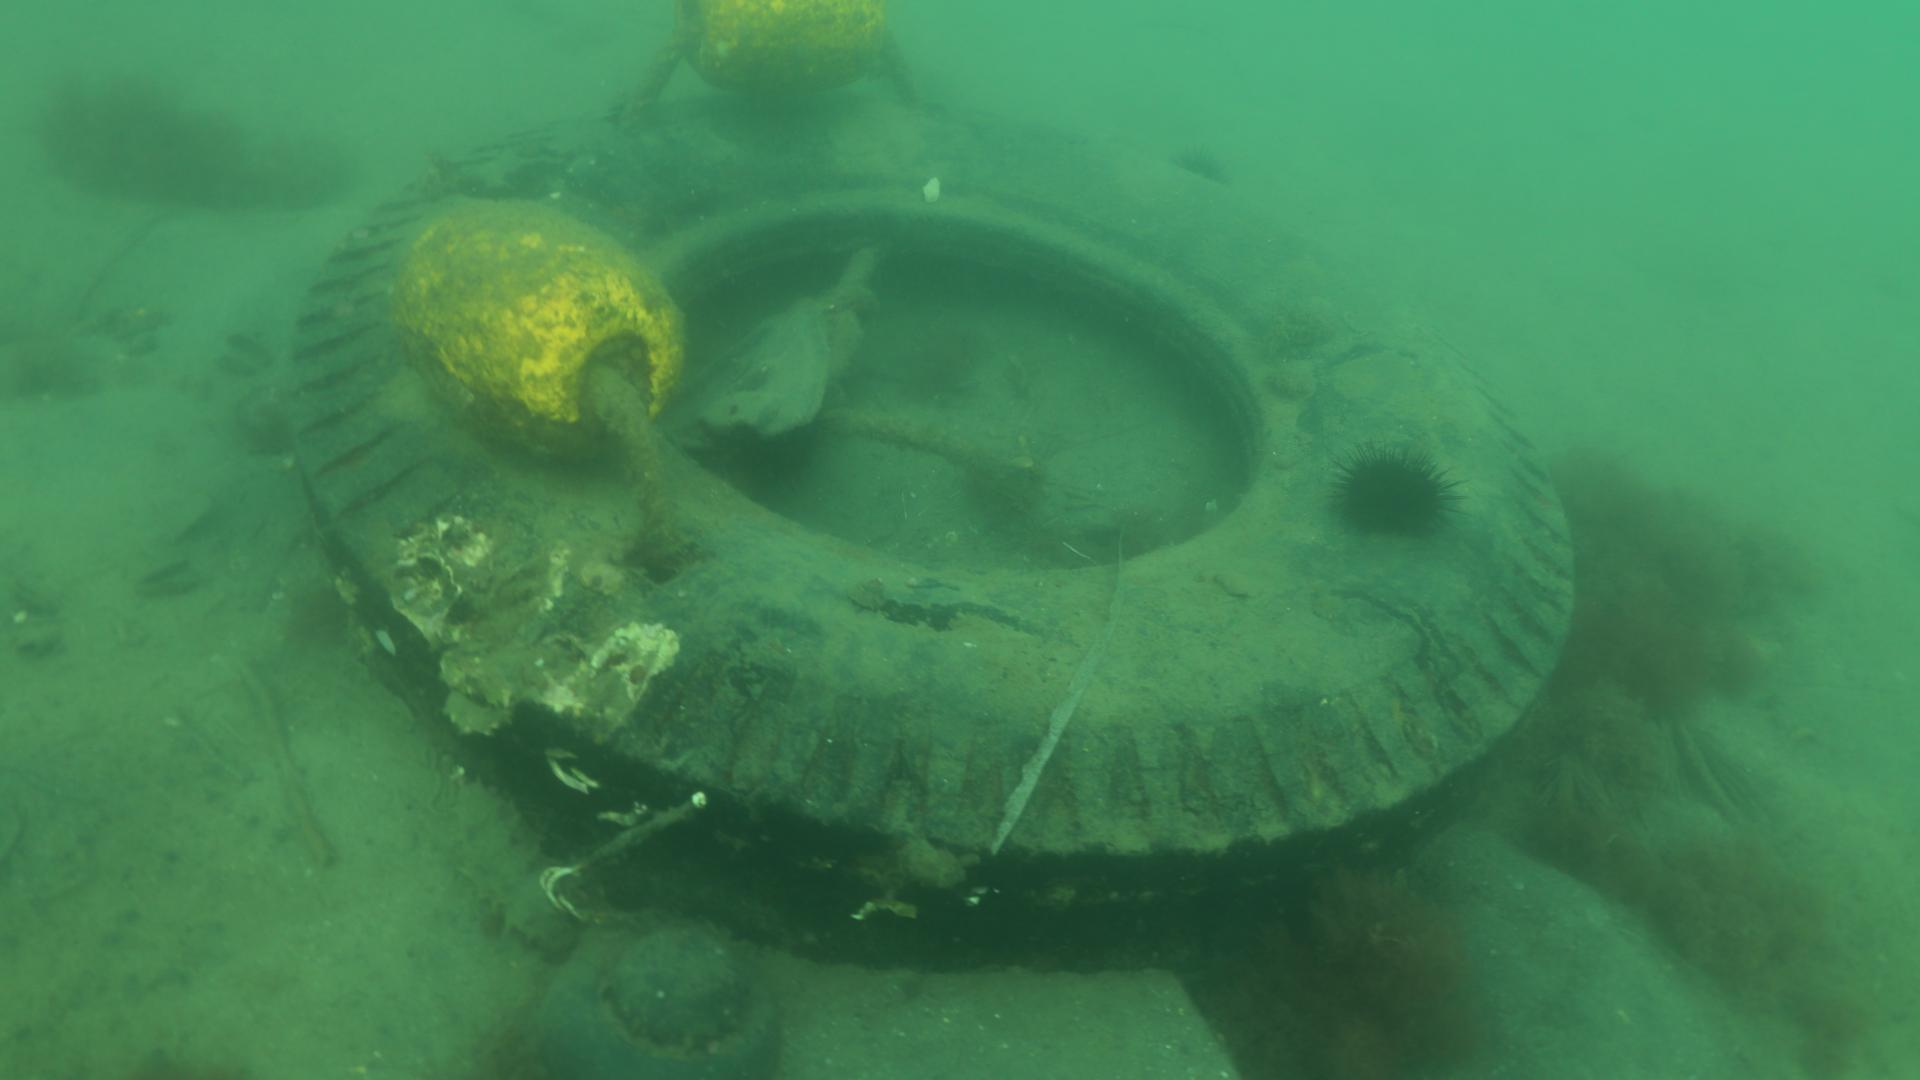tire: (285, 88, 1576, 971)
